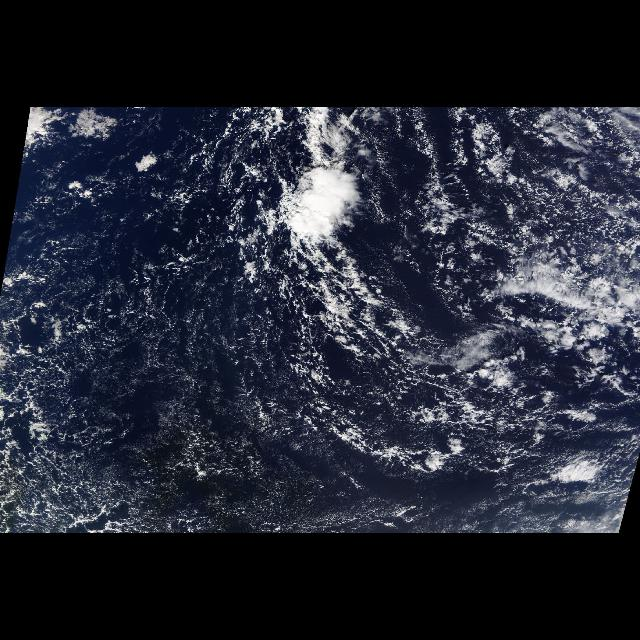Flower: (263, 156, 393, 274)
Gravel: (0, 113, 626, 533)
Sugar: (125, 462, 427, 534), (98, 350, 268, 446)
